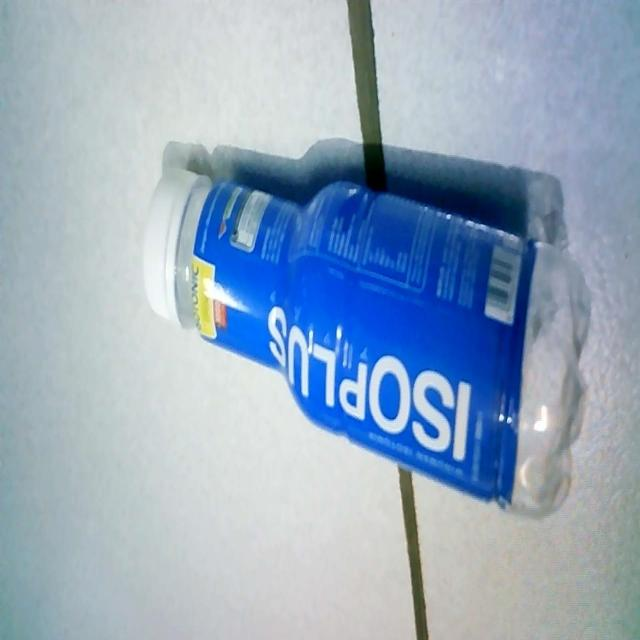botol: (130, 118, 594, 555)
